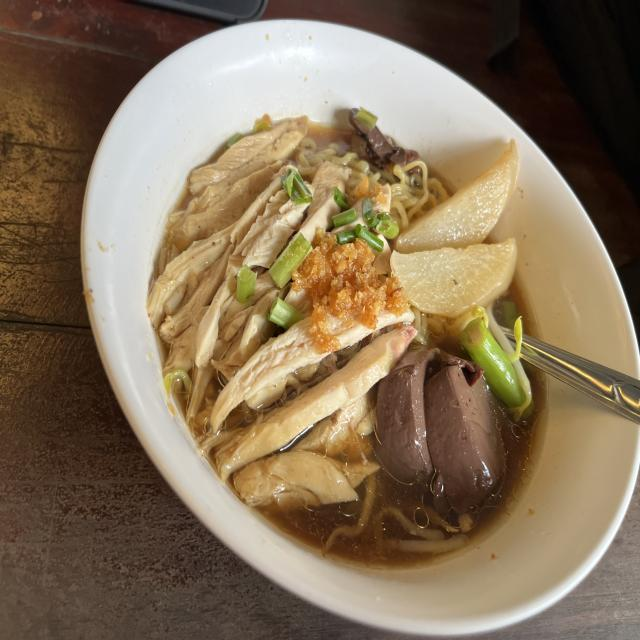boiled_chicken_blood_jelly: (384, 342, 496, 494)
chicken_shredded: (158, 106, 378, 509)
daikon_radish: (394, 136, 521, 310)
noodle: (125, 52, 560, 553)
